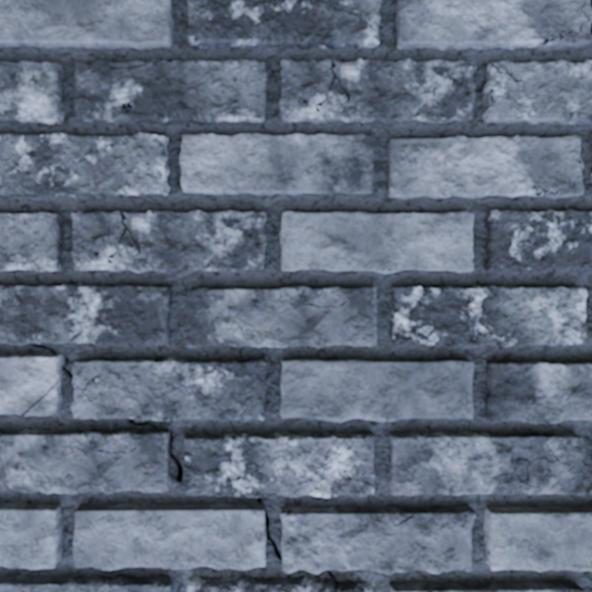brick: (280, 505, 474, 573), (74, 502, 265, 569), (279, 59, 475, 123), (75, 59, 267, 124), (180, 432, 374, 496), (388, 431, 584, 494), (72, 357, 267, 420), (71, 210, 265, 272), (387, 136, 580, 198), (280, 359, 472, 421), (392, 285, 586, 346), (180, 134, 372, 195), (186, 286, 376, 347), (280, 212, 473, 272), (0, 428, 171, 492), (0, 133, 168, 195), (0, 284, 170, 344), (395, 0, 591, 50), (187, 0, 380, 49), (0, 0, 173, 48), (483, 59, 591, 123), (484, 506, 591, 570), (485, 361, 591, 423), (485, 210, 591, 270), (0, 502, 62, 568), (0, 61, 62, 123), (0, 354, 61, 415), (0, 212, 62, 270), (0, 574, 171, 591), (389, 580, 583, 591), (541, 176, 582, 198), (583, 0, 591, 17)
broken_brick: (185, 574, 333, 591), (336, 580, 374, 591)
crack: (539, 0, 591, 45), (61, 356, 107, 402), (530, 158, 583, 196), (315, 58, 352, 112), (107, 211, 142, 264), (255, 496, 282, 560), (22, 381, 58, 415), (0, 285, 25, 323), (169, 430, 183, 482), (490, 62, 521, 83), (110, 58, 154, 69), (31, 342, 57, 355), (127, 417, 157, 428), (324, 569, 338, 591), (366, 171, 374, 177)
